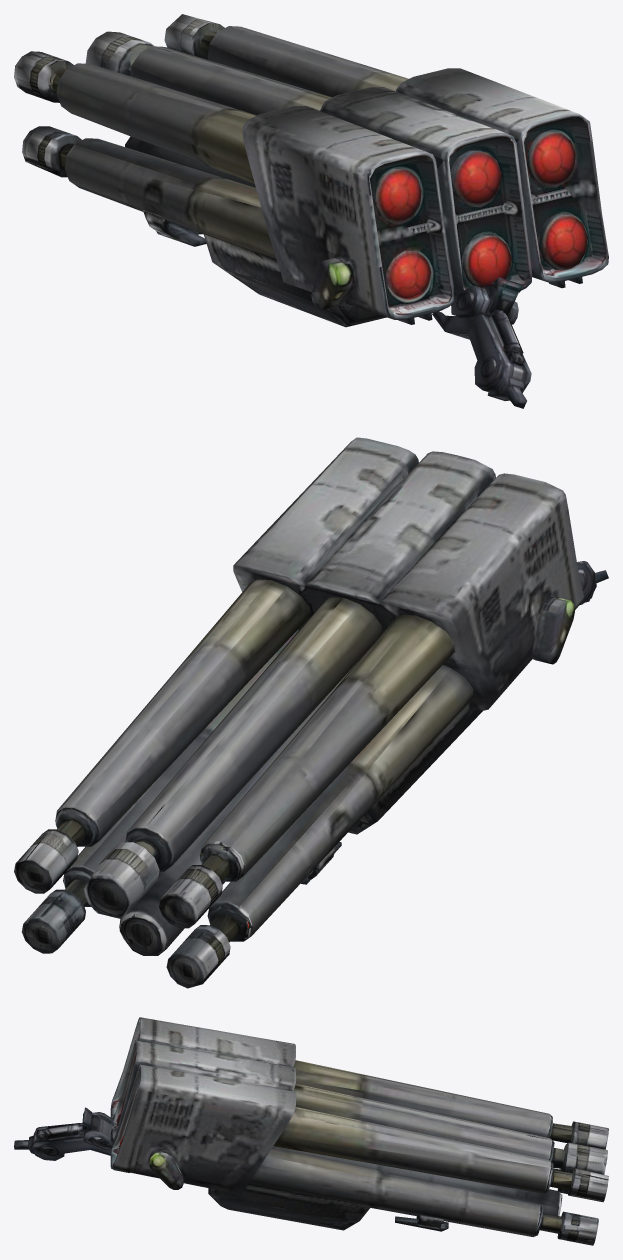
3 renders of one model, top to bottom at view 1: azimuth 30°, elevation 25°; view 2: azimuth 150°, elevation 25°; view 3: azimuth 270°, elevation 25°, orthographic. The views are drawn at different scales.
Visible parts, largest first — view 1: gun; view 2: gun; view 3: gun.
Part boxes in pixels (x1,y1,x2,y2): gun: (14, 14, 608, 408); gun: (14, 437, 608, 988); gun: (14, 1017, 608, 1245).
Bounding box in the file's own units: 1.38 × 1.44 × 4.3.
Materials: 1 (1 with a texture image).
